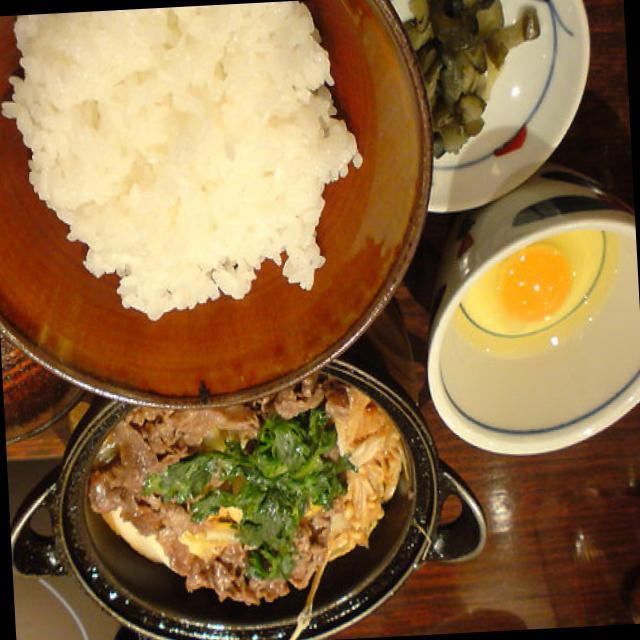Rice: (1, 0, 364, 334)
